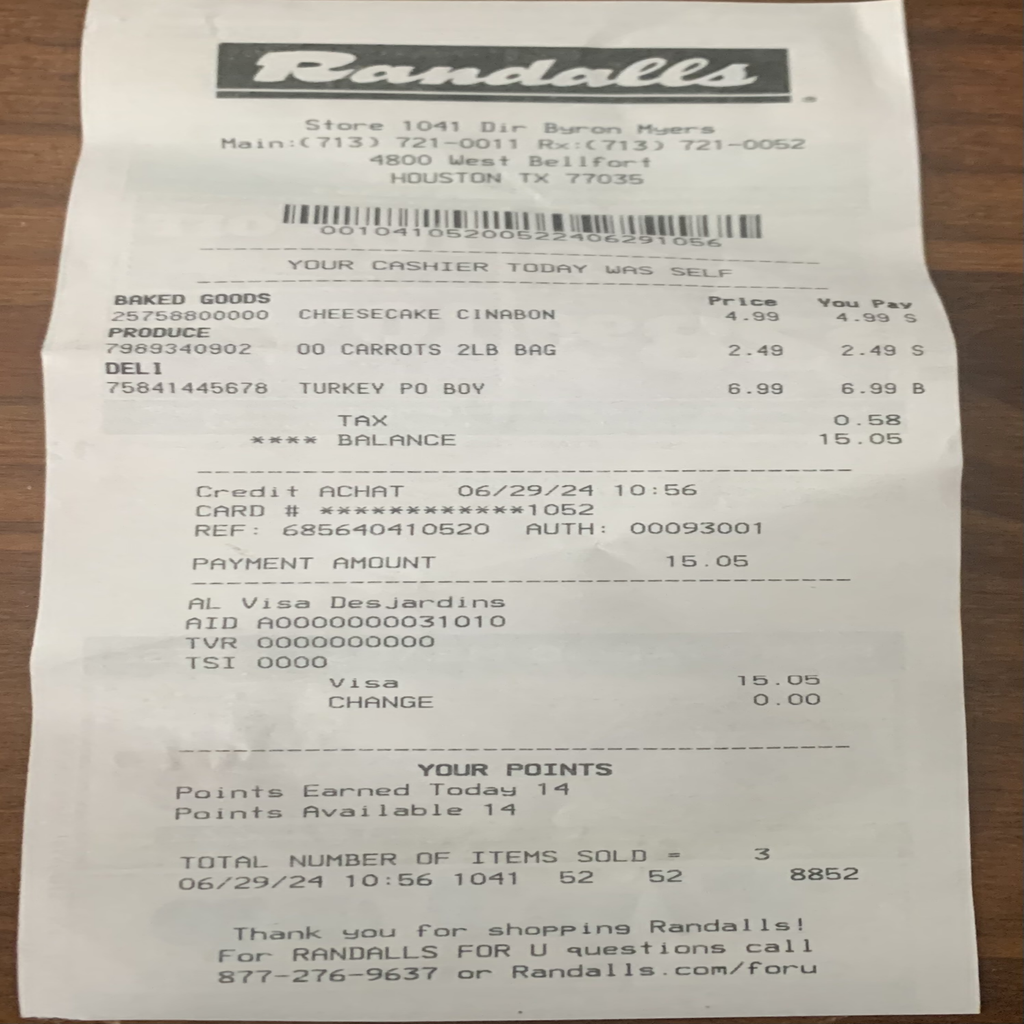recipt: (17, 0, 974, 1016)
